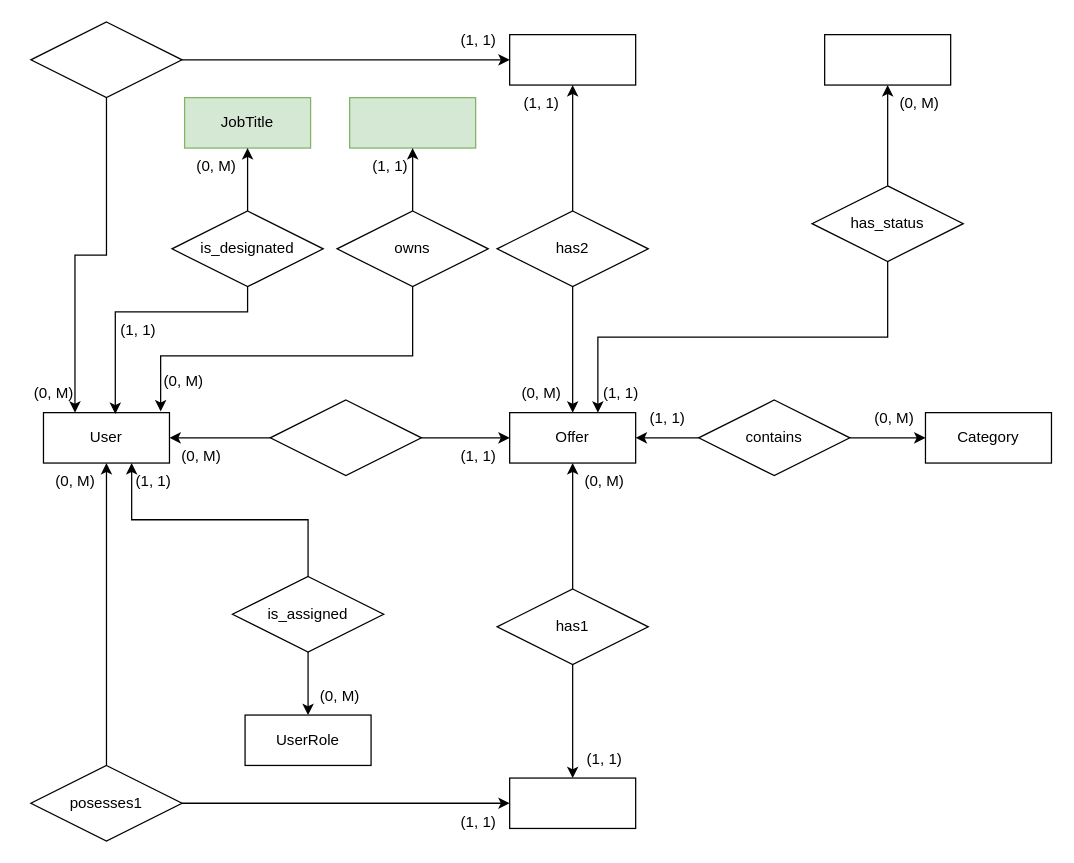
This 1074x863 diagram has some shape labels left out. Here are the shapes that lost their labels. From the top down, the centre of each, then its label:
At [106,59]: "posesses2".
At [572,59]: "Voucher".
At [887,59]: "OfferStatus".
At [412,122]: "BankAccount".
At [345,437]: "creates".
At [572,802]: "Bill".
